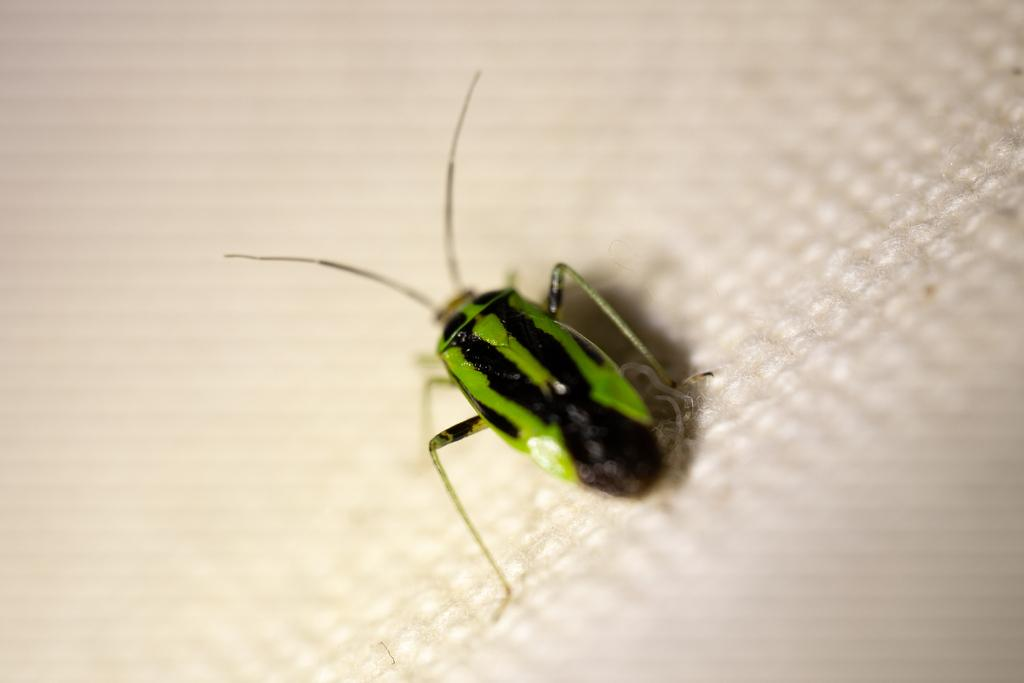plant_bugs: (185, 40, 764, 659)
